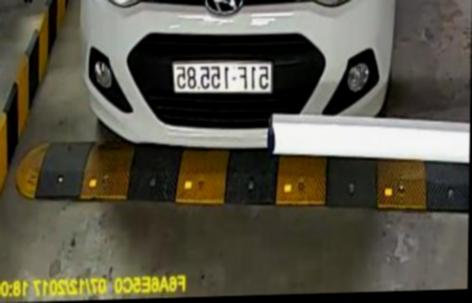License_Plate: (168, 55, 272, 98)
